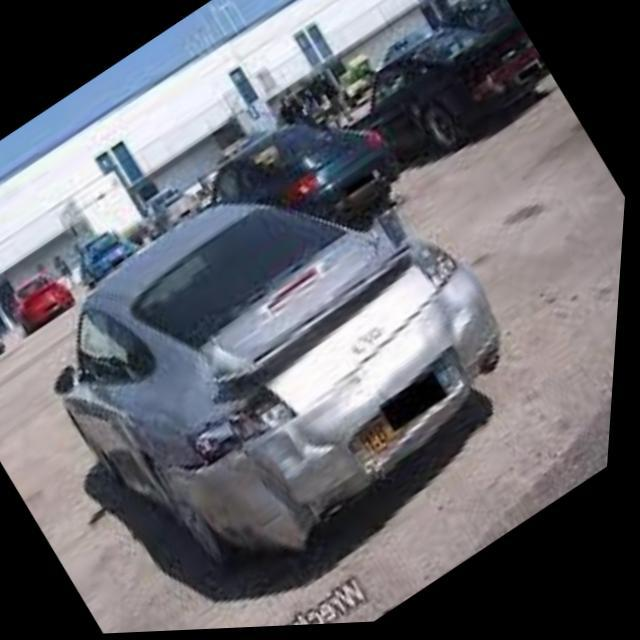dent: (191, 238, 479, 549)
